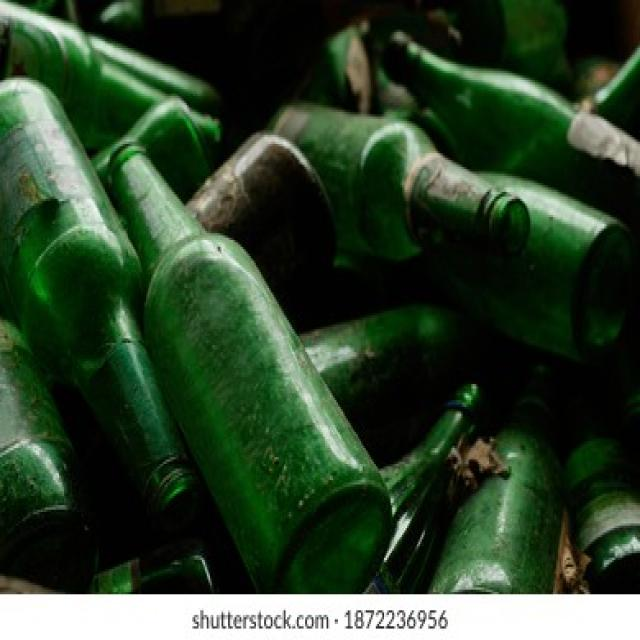glass: (84, 121, 532, 542)
